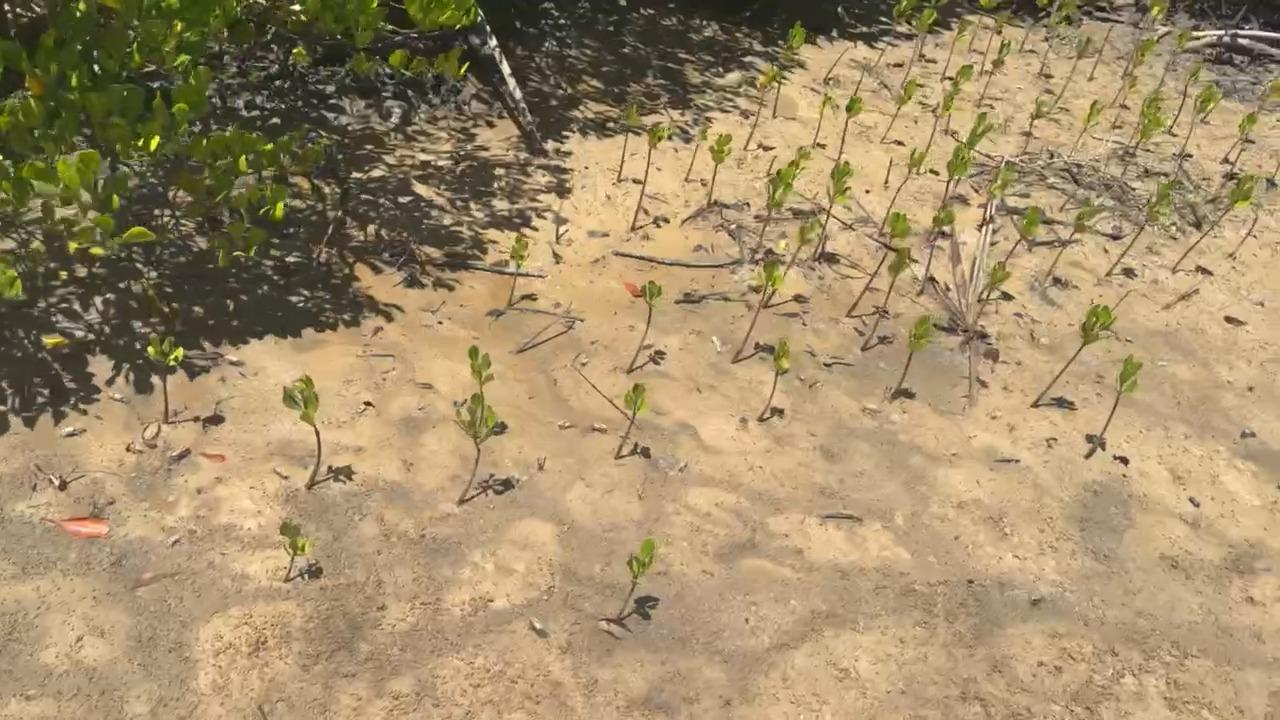Tree: (1030, 304, 1116, 407), (1173, 176, 1260, 269), (846, 212, 912, 317), (1106, 182, 1174, 277), (1084, 354, 1145, 459), (916, 64, 973, 174), (452, 392, 507, 505), (978, 208, 1045, 295), (730, 258, 785, 363), (756, 146, 811, 249), (860, 248, 915, 351), (761, 216, 819, 307), (282, 375, 322, 490), (1230, 79, 1280, 170), (630, 124, 672, 232), (877, 148, 926, 235), (812, 161, 854, 258), (1047, 206, 1105, 276), (144, 332, 184, 424), (626, 280, 664, 376), (1121, 0, 1170, 74), (892, 315, 936, 397), (771, 22, 806, 118), (617, 539, 657, 620), (1037, 0, 1080, 74), (872, 0, 918, 69), (1181, 83, 1223, 155), (952, 115, 991, 191), (920, 208, 956, 290), (901, 6, 936, 88), (744, 67, 778, 151), (1112, 37, 1156, 100), (1121, 113, 1164, 177), (756, 342, 790, 421), (880, 81, 923, 143), (613, 382, 646, 460), (1055, 36, 1091, 106), (1168, 62, 1205, 130), (975, 261, 1011, 325), (468, 345, 496, 426), (1068, 100, 1107, 158), (977, 42, 1011, 105), (1159, 29, 1194, 88), (706, 133, 734, 206), (938, 146, 969, 211), (617, 102, 642, 181), (277, 520, 309, 581), (919, 0, 951, 60), (1125, 93, 1160, 147), (980, 11, 1010, 73), (969, 0, 1004, 50), (1019, 0, 1051, 53), (838, 95, 864, 160), (1223, 114, 1257, 162), (507, 234, 529, 306), (1087, 25, 1114, 79), (684, 127, 710, 183), (941, 22, 967, 78), (1112, 74, 1139, 126), (813, 93, 834, 147), (823, 47, 851, 83), (1028, 98, 1052, 133), (554, 202, 567, 242), (854, 63, 867, 96), (884, 158, 894, 184), (1272, 163, 1280, 180)
